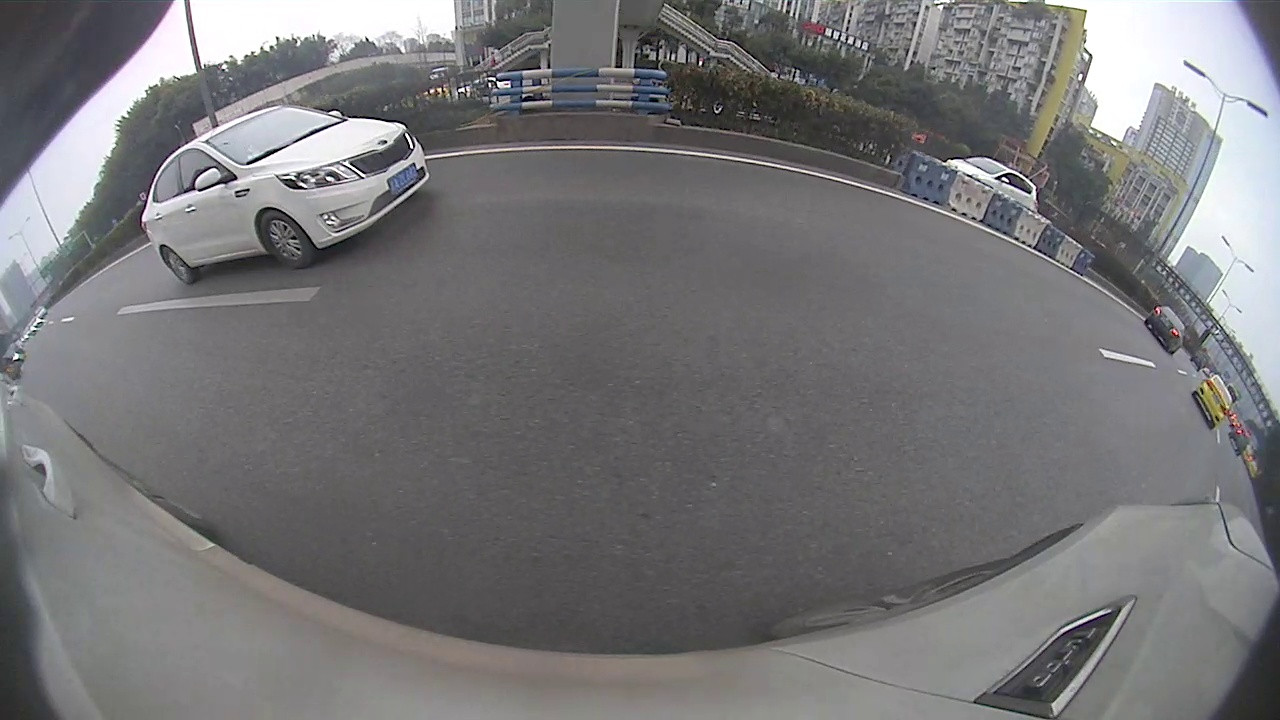car: (136, 103, 433, 286), (1192, 373, 1236, 432), (1143, 302, 1189, 356)
front: (256, 206, 321, 272)
rear: (157, 246, 198, 286)
